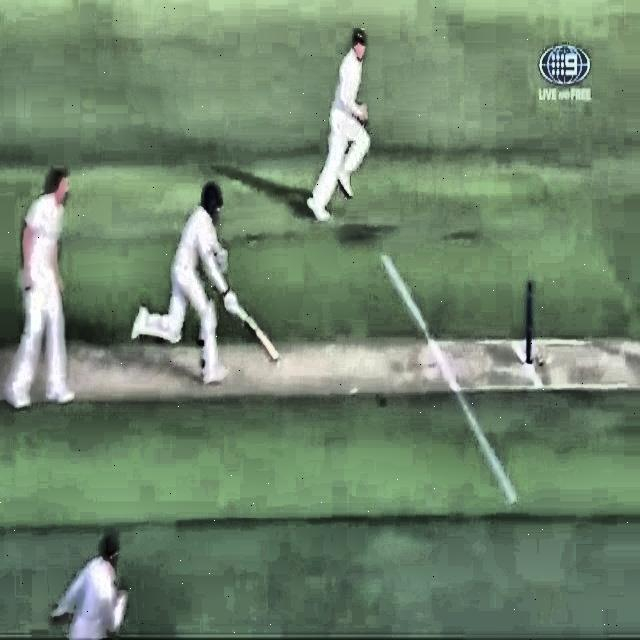Bat: (225, 298, 281, 365)
Pitch_Line: (377, 252, 521, 505)
Undis_Wicket: (524, 280, 539, 364)
